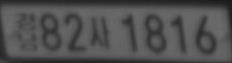1: (168, 14, 191, 53), (119, 12, 140, 52)
2: (64, 11, 88, 51)
6: (194, 14, 217, 55)
8: (143, 12, 167, 53), (39, 12, 63, 51)
경남_V: (13, 12, 38, 53)
사: (88, 15, 111, 49)
